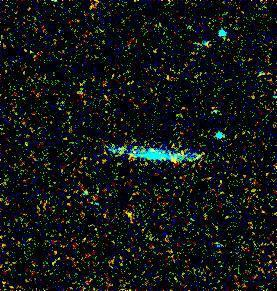star: (161, 145, 191, 175)
